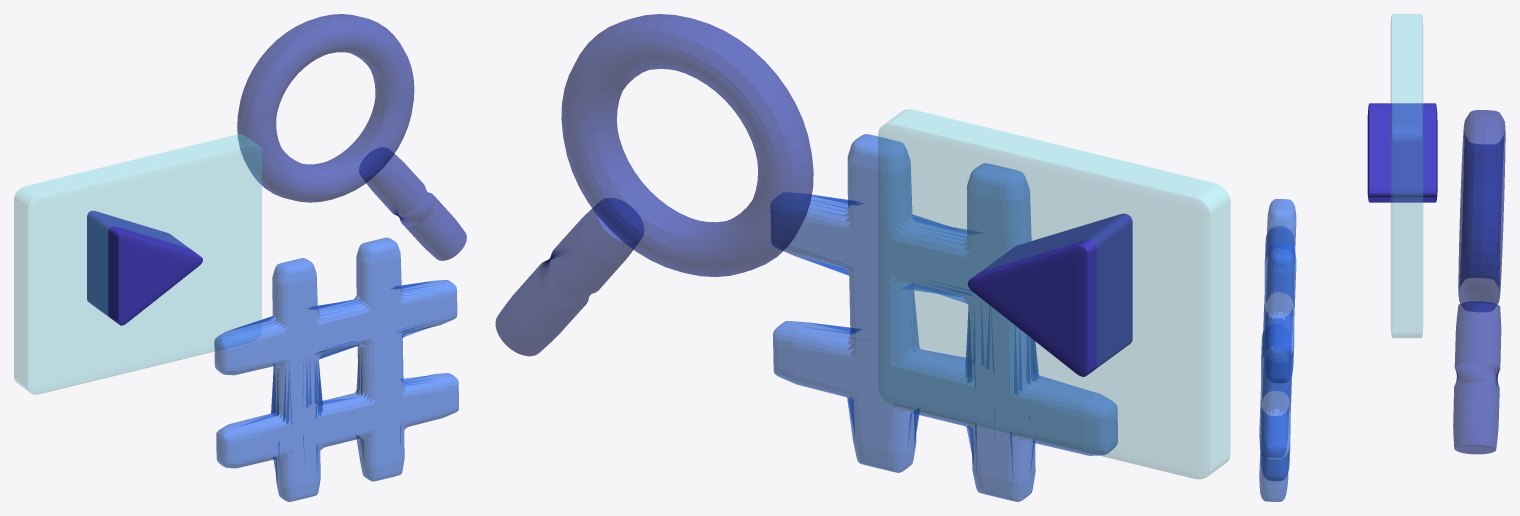
File: facebook.glb
3 views of the same model, side by side, from view 1: azimuth 30°, elevation 25°; view 2: azimuth 150°, elevation 25°; view 3: azimuth 270°, elevation 25° (orthographic). The views are drawn at different scales.
Bounding box in the file's own units: 3.04 × 2.3 × 1.28.
